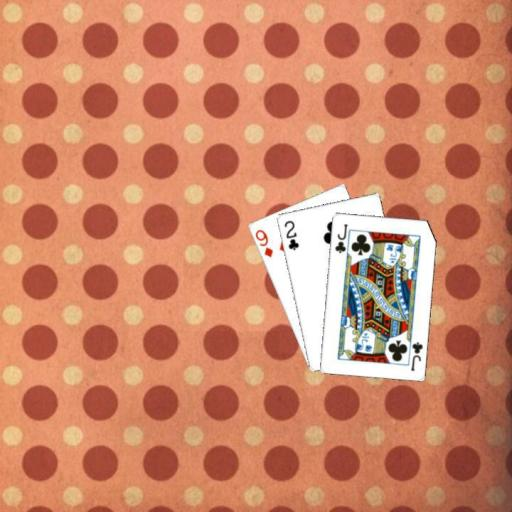2C: (281, 217, 300, 252)
9D: (252, 226, 275, 259)
JC: (332, 220, 350, 254), (407, 338, 424, 372)
